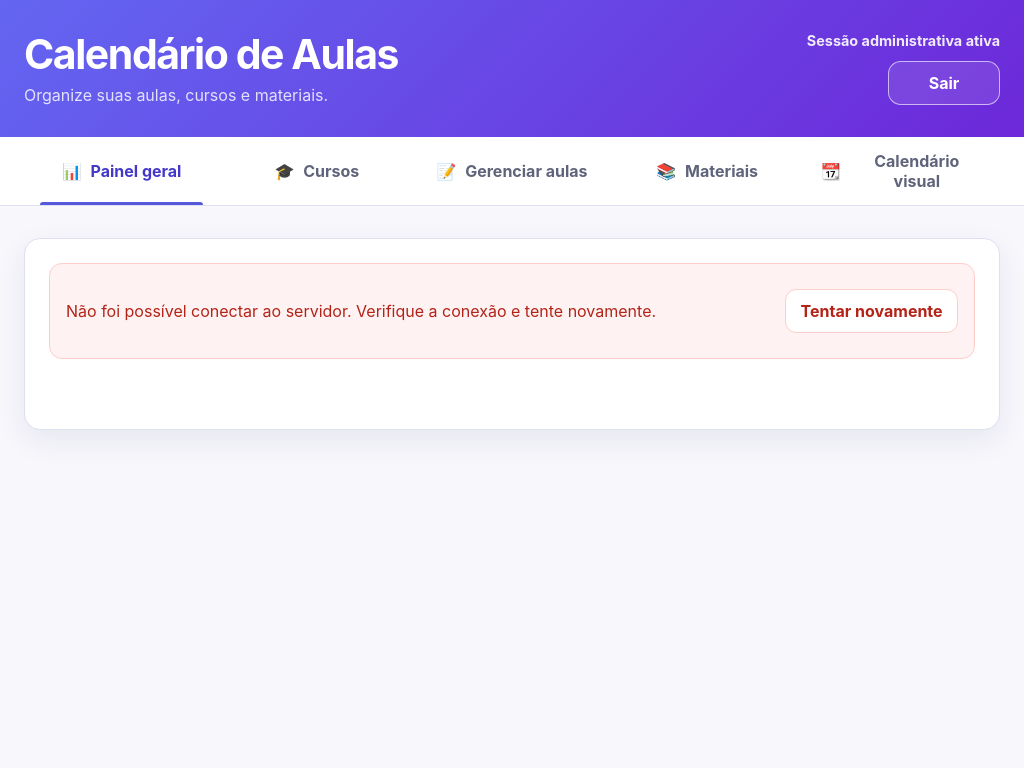
encerramento da sessão pela aplicação › remove o acesso somente depois da saída confirmada
This screenshot has width=1024, height=768.
Click the button "Sair" at (944, 83), box [888, 61, 1000, 105]
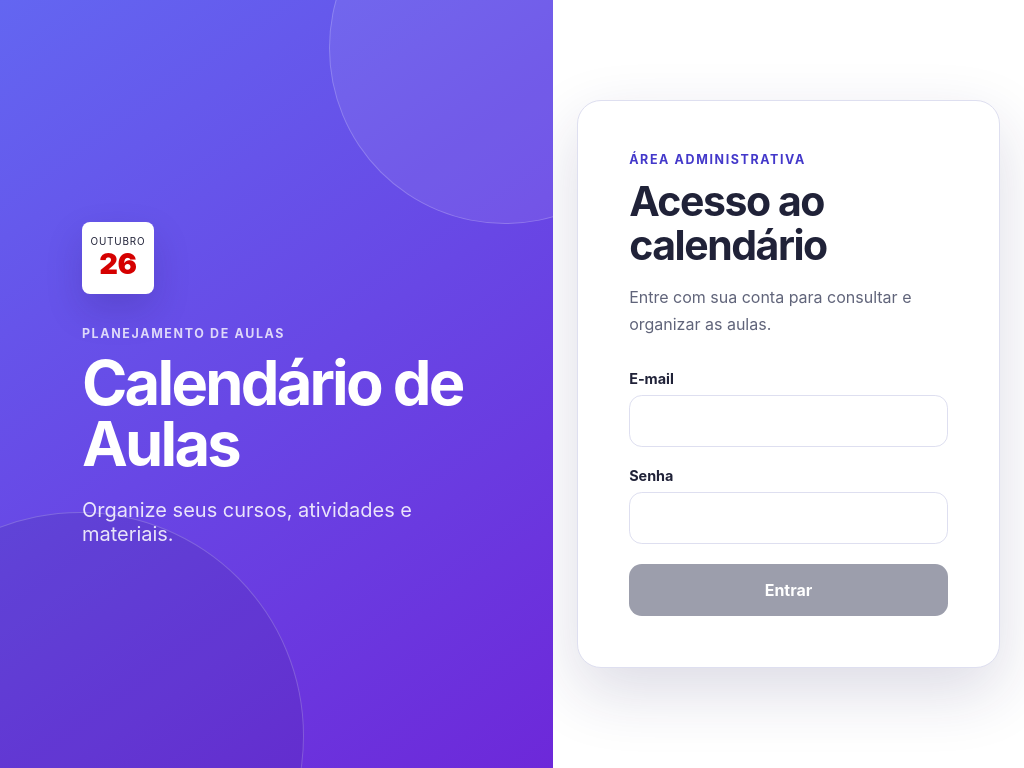
Expected: the form named "Entrada administrativa" is shown, [629, 370, 948, 616]
Expected: the heading "Acesso ao calendário" is shown, [629, 176, 827, 270]
Expected: the message "Sessão administrativa ativa" is gone
